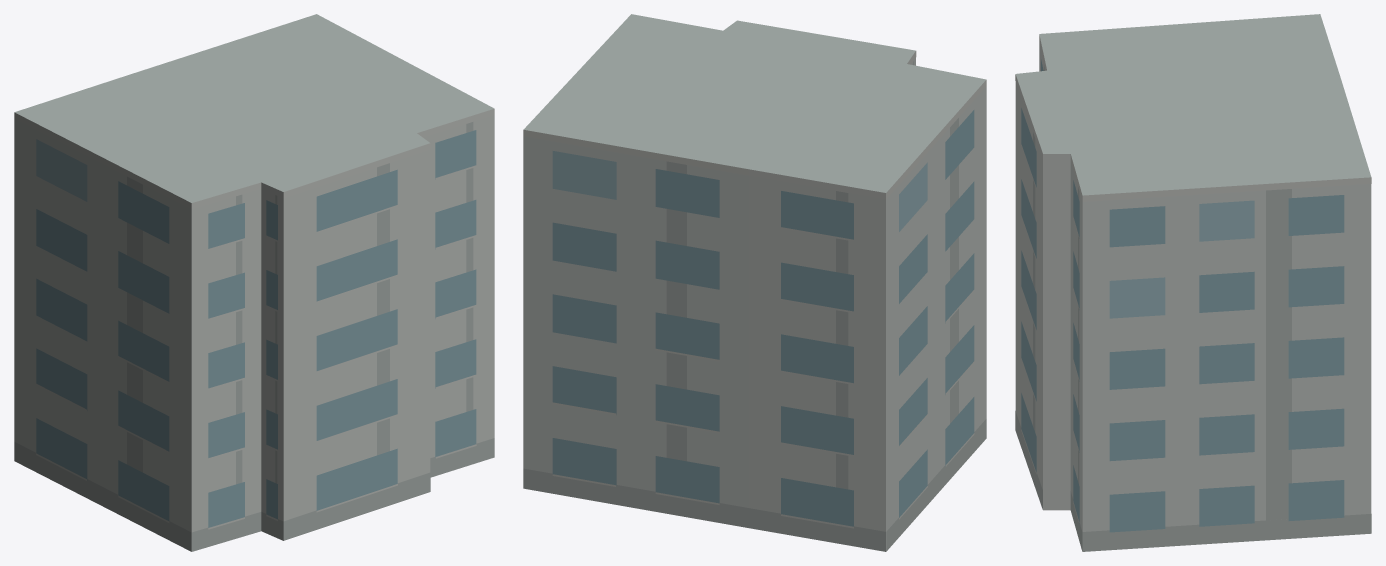
Rendered from survey-upis-33008630.glb.
3 views of the same model, side by side, from view 1: azimuth 30°, elevation 25°; view 2: azimuth 150°, elevation 25°; view 3: azimuth 270°, elevation 25° (orthographic). The views are drawn at different scales.
Parts seen in each view (by area): view 1: survey-upis-33008630.tmp; view 2: survey-upis-33008630.tmp; view 3: survey-upis-33008630.tmp.
Part boxes in pixels (x1,y1,x2,y2): survey-upis-33008630.tmp: [14, 14, 494, 551]; survey-upis-33008630.tmp: [523, 14, 986, 551]; survey-upis-33008630.tmp: [1015, 14, 1371, 551].
Bounding box in the file's own units: 14.54 × 13.3 × 12.05.
